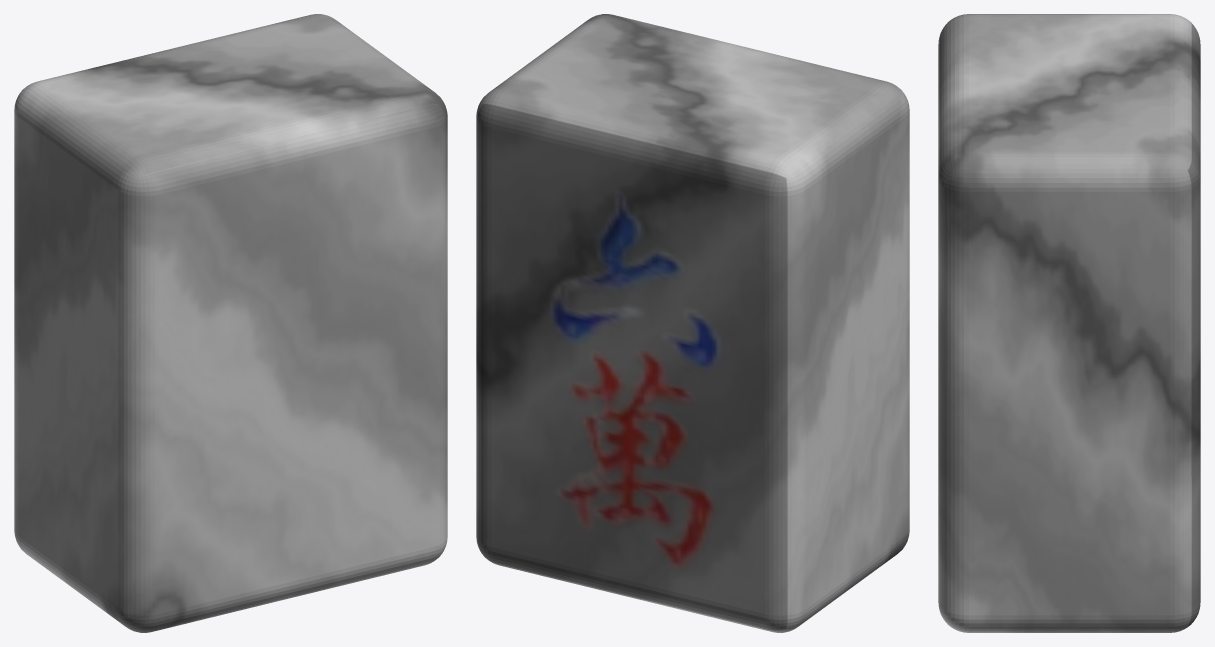
The model's file is wan6.fbx.
3 renders of one model, left to right at view 1: azimuth 30°, elevation 25°; view 2: azimuth 150°, elevation 25°; view 3: azimuth 270°, elevation 25°, orthographic.
Visible parts, largest first — view 1: wan6; view 2: wan6; view 3: wan6.
Part boxes in pixels (box(x1,y1,x2,y2)): wan6: box(14, 14, 447, 632); wan6: box(476, 14, 909, 632); wan6: box(938, 14, 1200, 632).
Bounding box in the file's own units: 100 × 139 × 69.
1 material, 1 textured.
